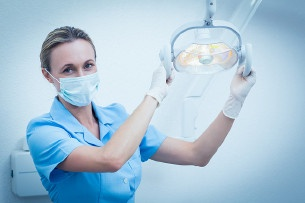Mask: (57, 56, 107, 105)
